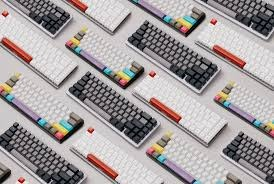keyboard: (3, 6, 255, 147)
